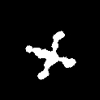single_crochet: (26, 31, 75, 78)
